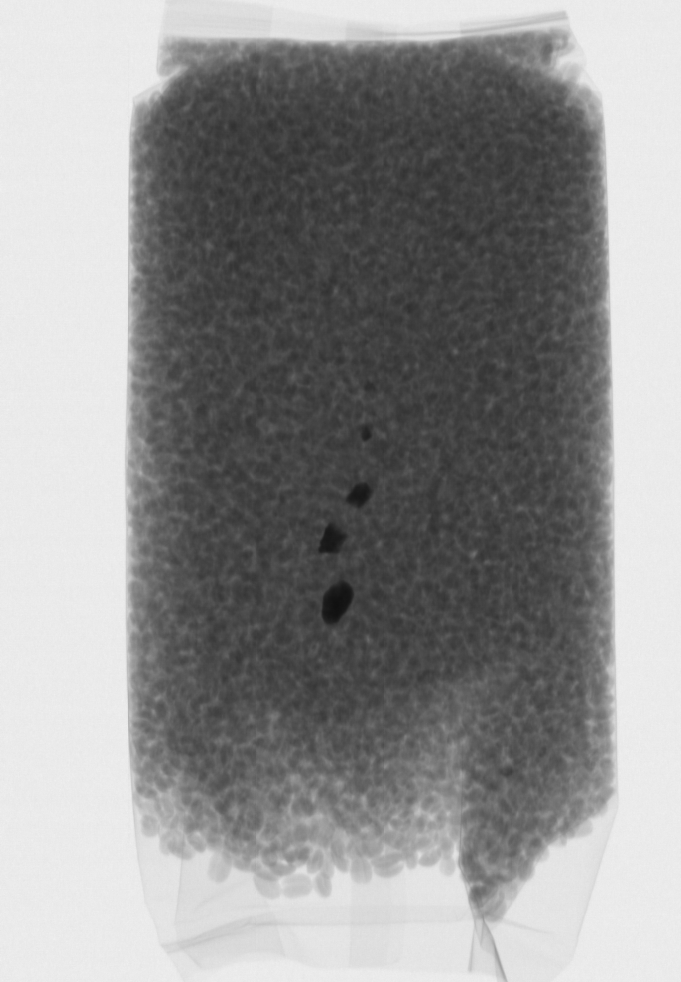stone: (318, 576, 356, 628), (341, 475, 376, 510), (316, 521, 349, 557), (359, 426, 377, 445), (360, 379, 378, 395)
stone_area: (296, 347, 391, 643)
